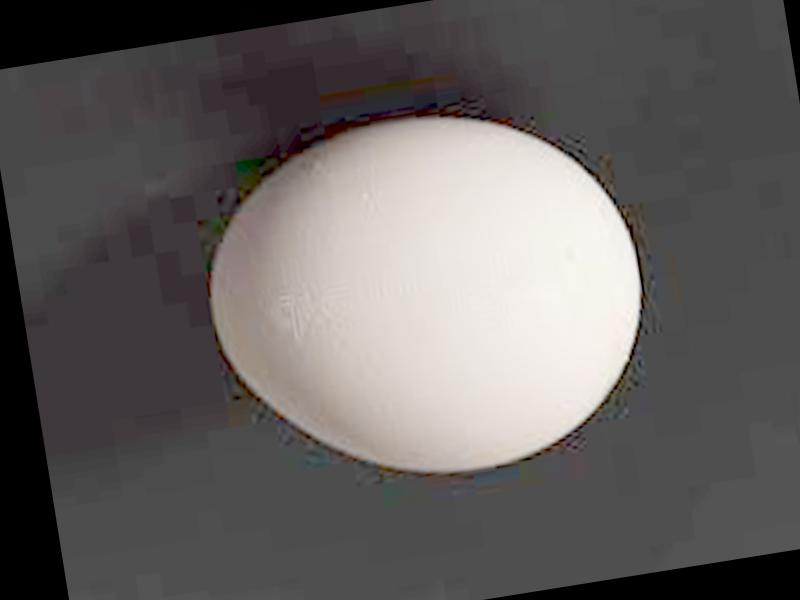Eggs: (190, 90, 668, 504)
